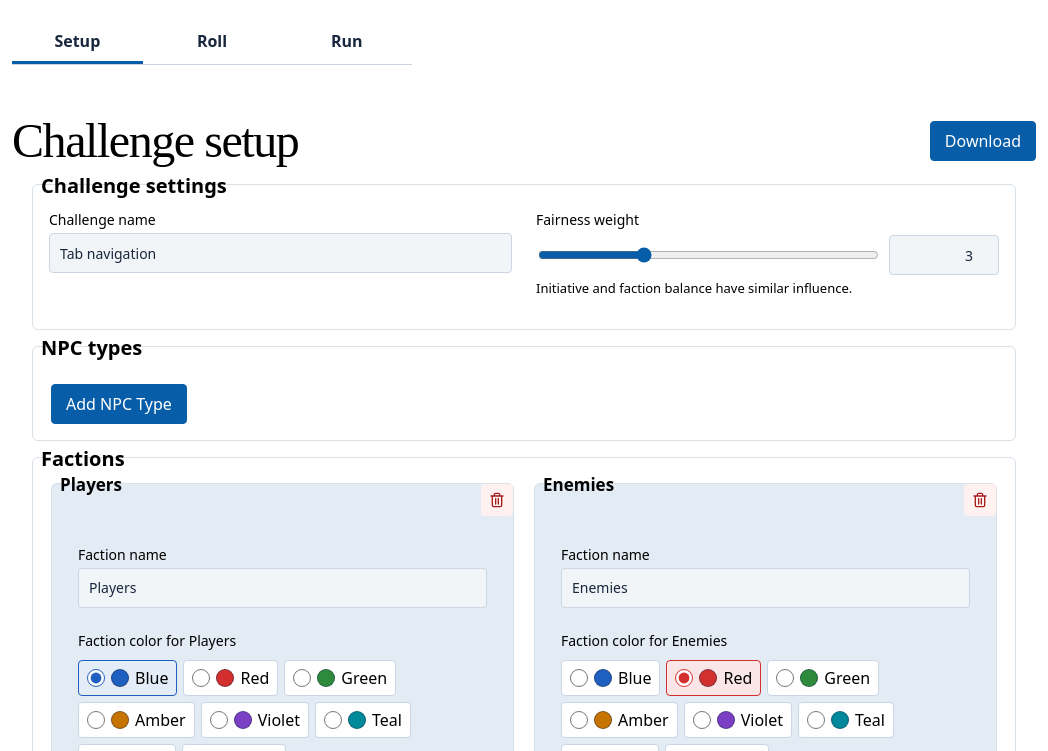
Test: challenge workflow tabs › shows the panel after saving even when URL navigation is still pending
Expected: the heading "Challenge setup" is shown, left=12, top=114, right=298, bottom=167
Click the tab "Roll" at {"x": 212, "y": 42}, box left=147, top=20, right=277, bottom=64
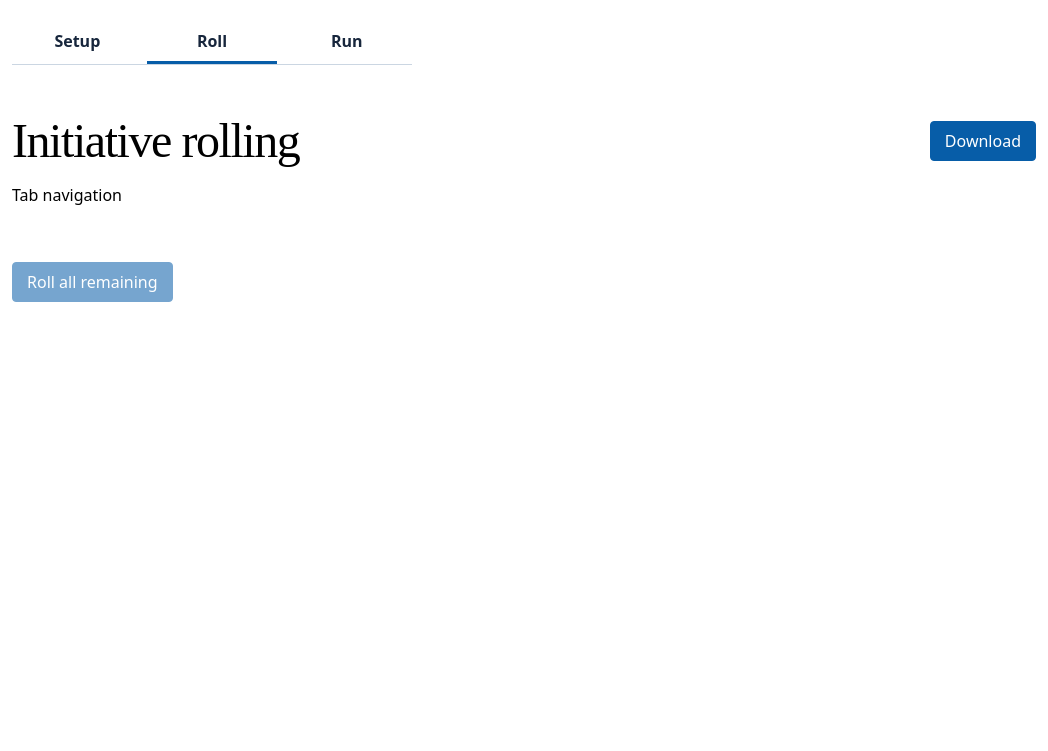
Result: the heading "Initiative rolling" is shown at left=12, top=114, right=299, bottom=167
